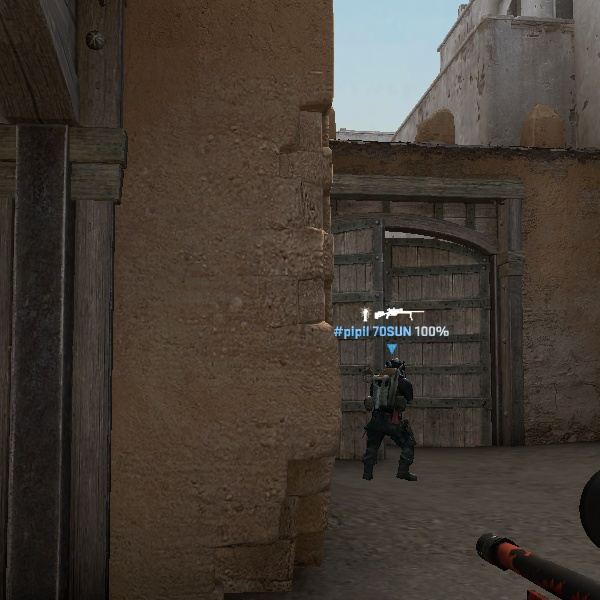ct_body: (353, 350, 433, 487)
ct_head: (377, 352, 407, 381)
